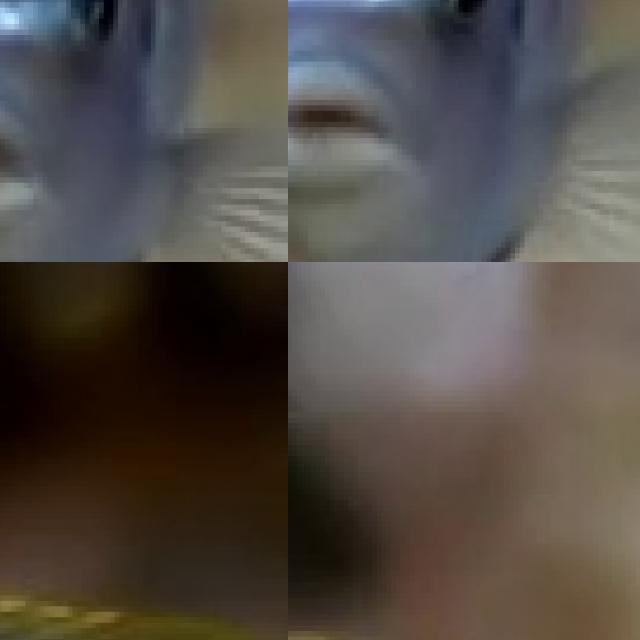fish: (0, 0, 288, 262), (0, 491, 288, 640)
